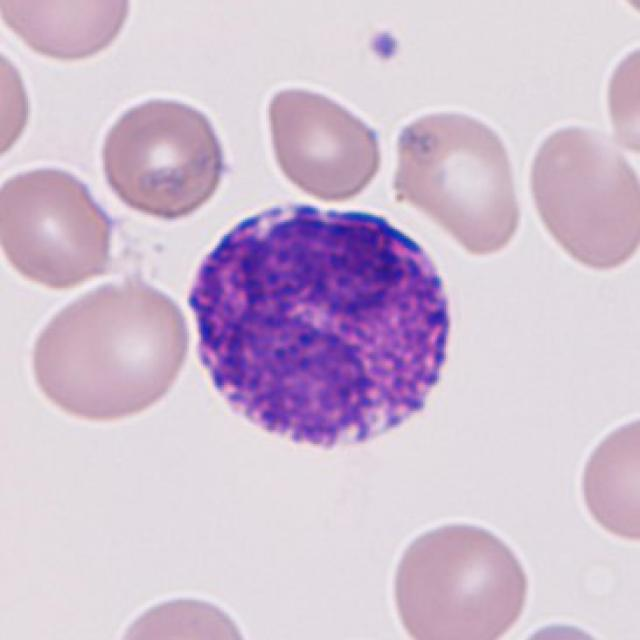Basophil: (177, 187, 472, 472)
Platelets: (362, 24, 406, 68)
RBC: (23, 272, 196, 427), (385, 100, 528, 258), (385, 513, 535, 640), (94, 88, 234, 222), (523, 118, 638, 276), (0, 160, 121, 292), (260, 80, 386, 204), (572, 408, 638, 546), (0, 0, 138, 66), (107, 586, 257, 640), (600, 33, 640, 163), (0, 34, 37, 174), (494, 615, 622, 640), (600, 0, 640, 31)
